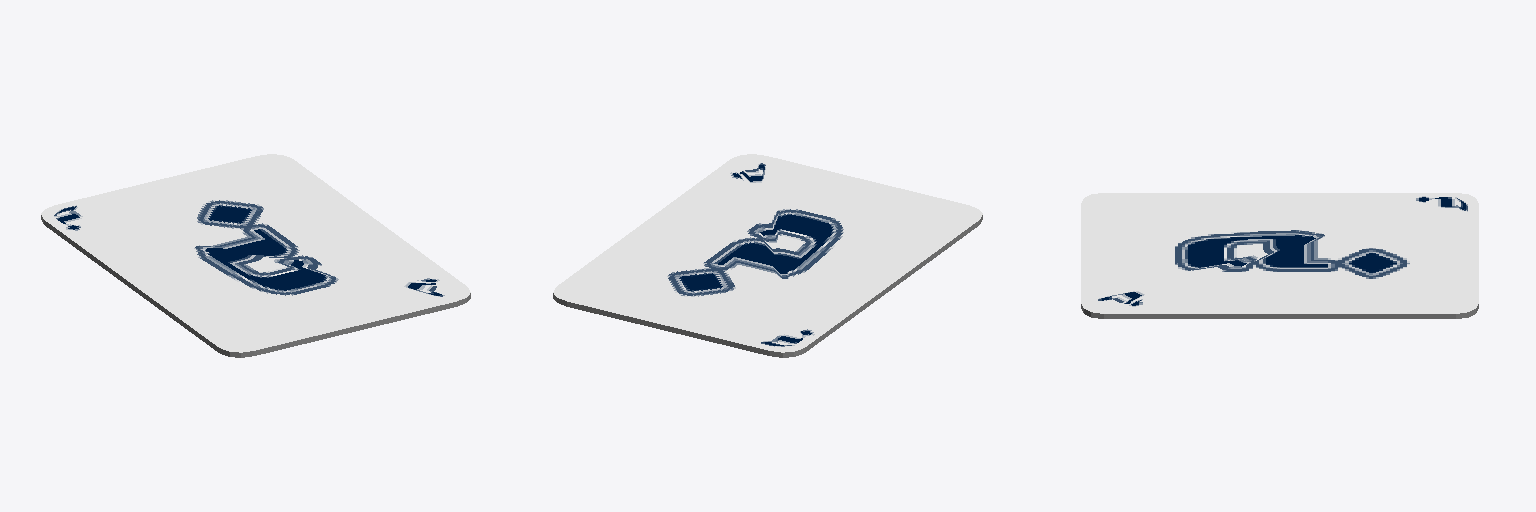
3 views of the same model, side by side, from view 1: azimuth 30°, elevation 25°; view 2: azimuth 150°, elevation 25°; view 3: azimuth 270°, elevation 25° (orthographic).
Parts seen in each view (by area): view 1: Test; view 2: Test; view 3: Test.
Boxes of the visible parts, x1,y1,x2,y2 form: Test: [41, 154, 470, 357]; Test: [553, 154, 982, 357]; Test: [1081, 193, 1478, 318].
Bounding box in the file's own units: 97.9 × 2 × 136.
Materials: 3 (2 with a texture image).